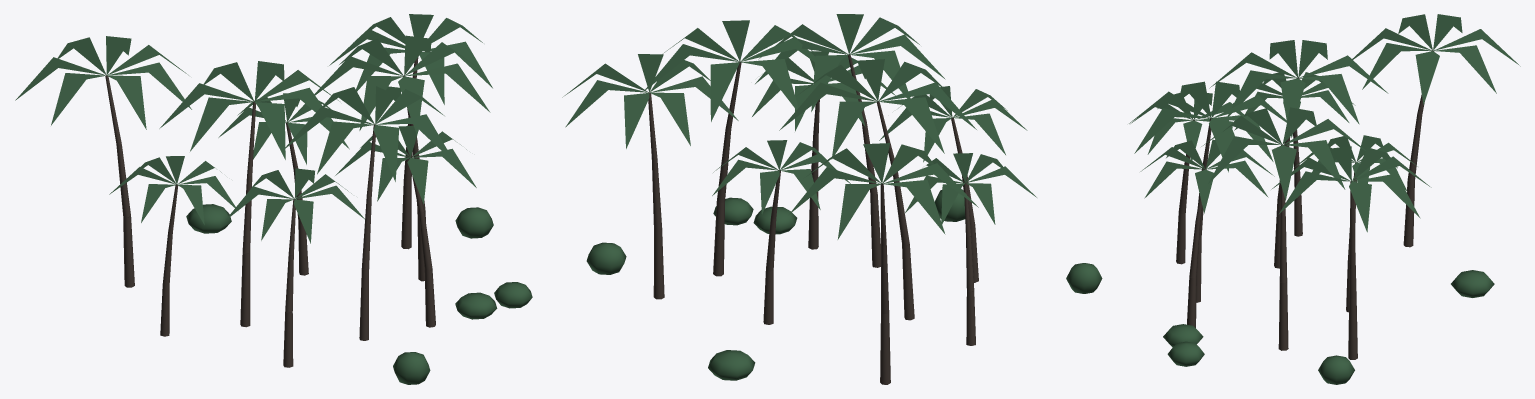
Rendered from world_site_equatorial_palms.glb.
The picture shows the model from 3 angles, left to right: view 1: azimuth 30°, elevation 25°; view 2: azimuth 150°, elevation 25°; view 3: azimuth 270°, elevation 25°; orthographic projection. The views are drawn at different scales.
Visible parts, largest first — view 1: world_site_equatorial_palms_mesh; view 2: world_site_equatorial_palms_mesh; view 3: world_site_equatorial_palms_mesh.
Boxes of the visible parts, x1=… form: world_site_equatorial_palms_mesh: x1=15, y1=14, x2=532, y2=384; world_site_equatorial_palms_mesh: x1=562, y1=14, x2=1036, y2=384; world_site_equatorial_palms_mesh: x1=1066, y1=14, x2=1520, y2=384.
Bounding box in the file's own units: 27.86 × 14.49 × 27.92.
